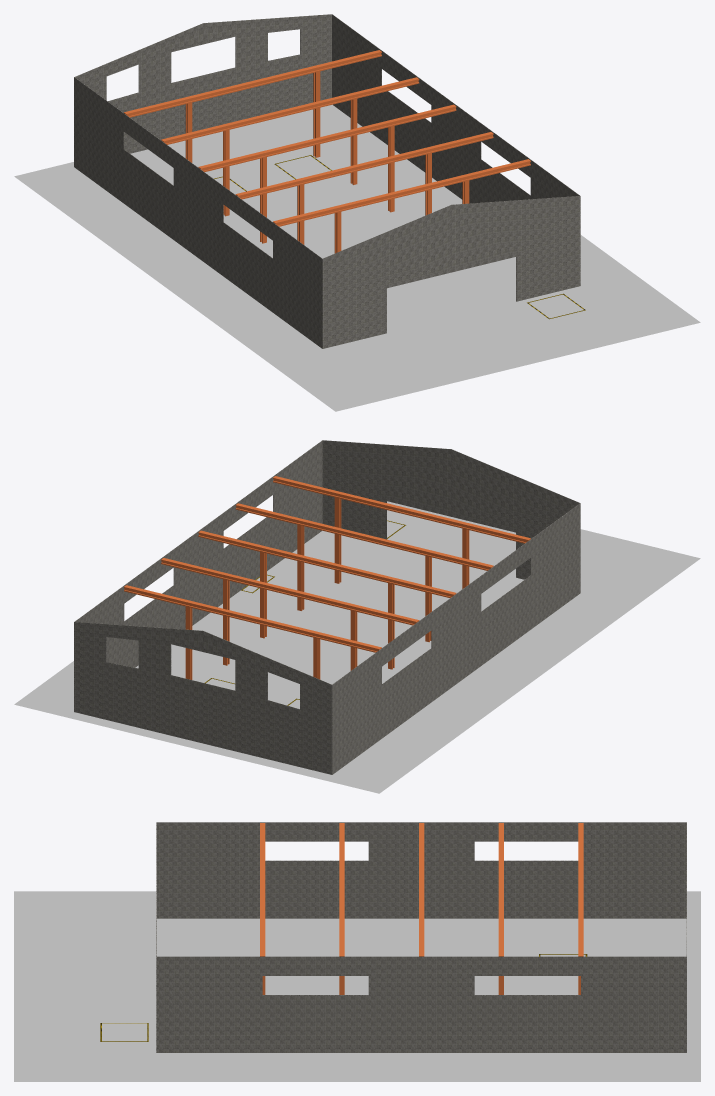
The model's file is warehouse.dae.
3 views of the same model, one above another, from view 1: azimuth 30°, elevation 25°; view 2: azimuth 150°, elevation 25°; view 3: azimuth 270°, elevation 25° (orthographic). The views are drawn at different scales.
Visible parts, largest first — view 1: ground_out, ground, Wall1, Wall4, Wall3, celling_collum, Wall2; view 2: ground_out, Wall3, ground, Wall1, Wall4, celling_collum, Wall2; view 3: Wall2, Wall1, ground_out, ground, celling_collum.
Part boxes in pixels (x1,y1,x2,y2): ground_out: [14, 162, 700, 411]; ground: [130, 104, 515, 333]; Wall1: [74, 77, 322, 348]; Wall4: [322, 196, 580, 348]; Wall3: [74, 14, 331, 166]; celling_collum: [124, 50, 530, 253]; Wall2: [332, 14, 580, 285]; ground_out: [14, 501, 700, 793]; Wall3: [74, 622, 332, 774]; ground: [135, 530, 524, 708]; Wall1: [332, 503, 580, 774]; Wall4: [322, 440, 580, 579]; celling_collum: [124, 476, 530, 679]; Wall2: [74, 440, 322, 711]; Wall2: [156, 956, 686, 1052]; Wall1: [157, 822, 686, 918]; ground_out: [14, 891, 700, 1081]; ground: [157, 918, 686, 994]; celling_collum: [260, 823, 583, 994].
Bounding box in the file's own units: 42.46 × 64.73 × 12.6.
